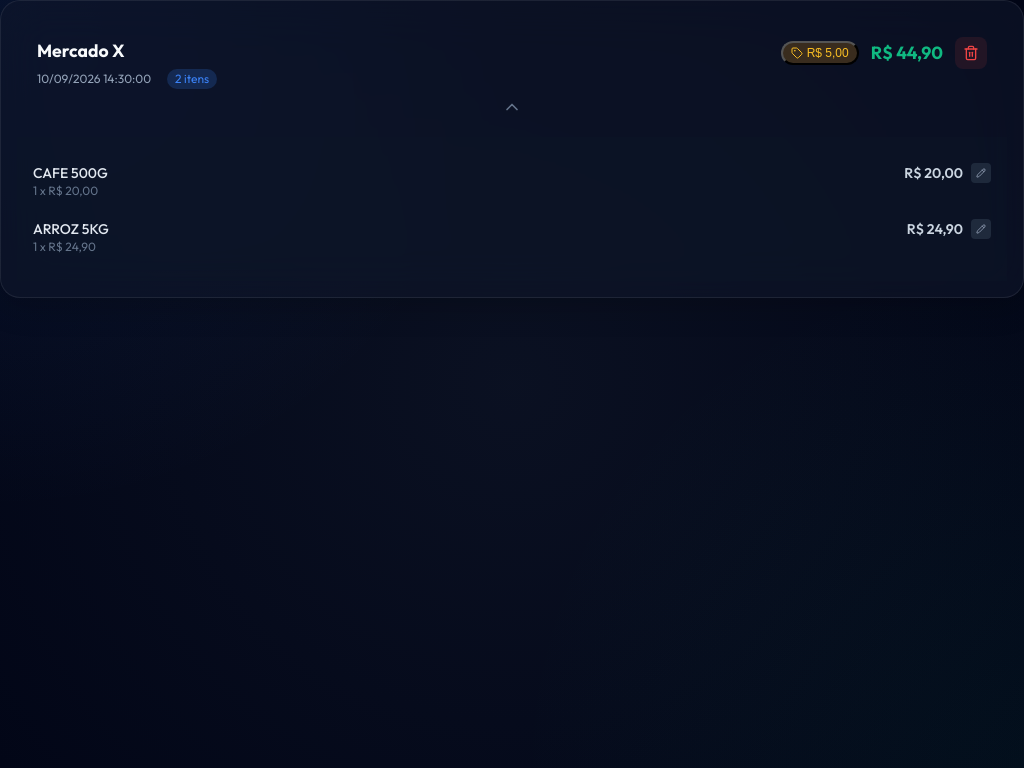
it: ReceiptCard — indicador de desconto pendente › não alterna o colapso ao clicar na tag com a nota já expandida
Click the button titled "ainda não inserido": (820, 53) [781,41,859,65]
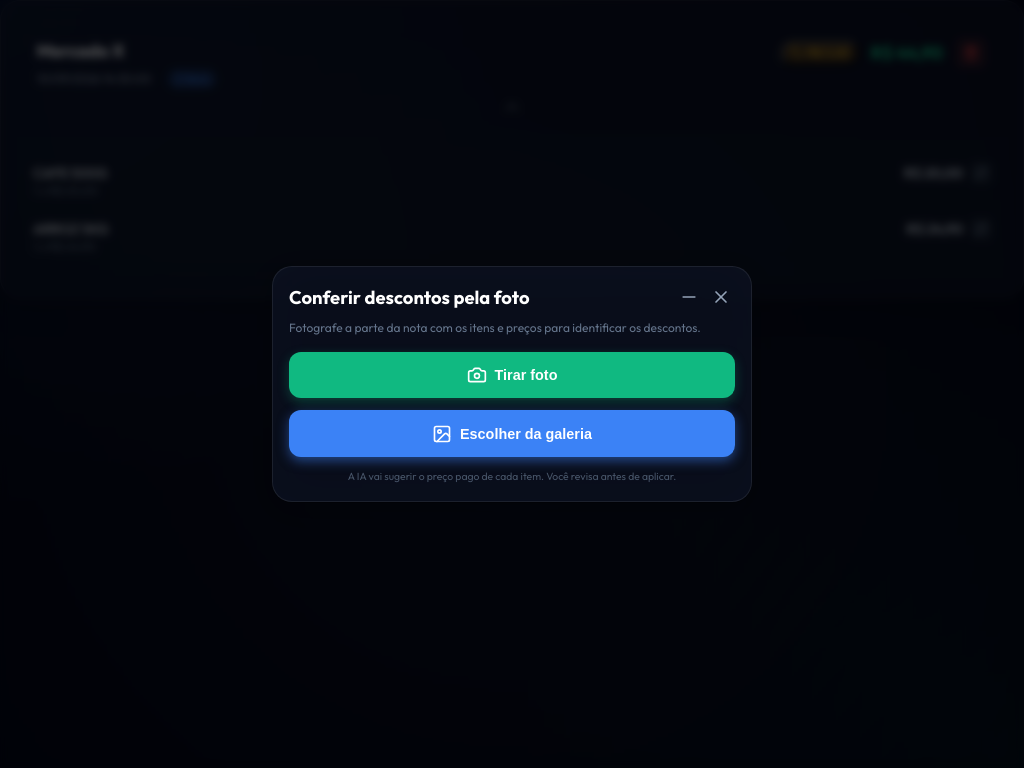
Now the heading "Conferir descontos pela foto" is shown, box [289,283,530,312]
